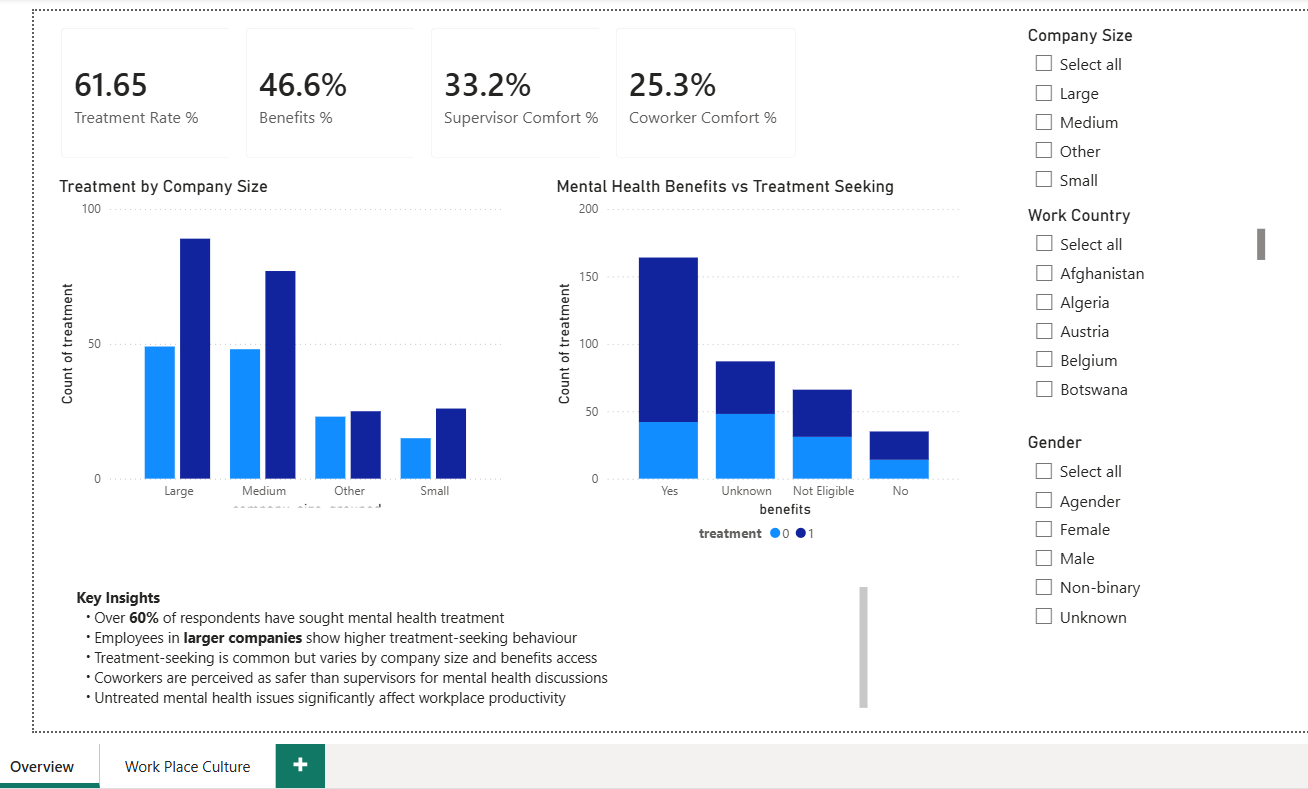

This screenshot's page, from the dashboard's own definition file:
{"tool":"powerbi","page":{"name":"Overview","canvas":[1280,720],"ordinal":0},"visuals":[{"type":"cardVisual","fields":{"Data":["data.Treatment Rate %"]},"box":[9.6,0,214.1,164.7],"z":0},{"type":"cardVisual","fields":{"Data":["data.Benefits %"]},"box":[194.4,0,215.4,164.7],"z":1000},{"type":"cardVisual","fields":{"Data":["data.Supervisor Comfort %"]},"box":[380.6,0,214.1,164.7],"z":2000},{"type":"cardVisual","fields":{"Data":["data.Coworker Comfort %"]},"box":[565.4,0,214.1,164.7],"z":3000},{"type":"clusteredColumnChart","title":"Treatment by Company Size","fields":{"Category":["data.company_size_grouped"],"Series":["data.treatment"],"Y":["CountNonNull(data.treatment)"]},"box":[20.6,164.7,454.2,376],"z":4000},{"type":"columnChart","title":"Mental Health Benefits vs Treatment Seeking","fields":{"Category":["data.benefits"],"Series":["data.treatment"],"Y":["CountNonNull(data.treatment)"]},"box":[517.3,164.7,415.8,376],"z":5000},{"type":"slicer","title":"Company Size","fields":{"Values":["data.company_size_grouped"]},"box":[988.6,14.3,247.1,180],"z":6000},{"type":"slicer","title":"Work Country","fields":{"Values":["data.work_country"]},"box":[988.6,194.3,247.1,208.6],"z":7000},{"type":"slicer","title":"Gender","fields":{"Values":["data.gender_clean"]},"box":[988.6,421.4,252.9,211.4],"z":8000},{"type":"textbox","box":[779,0,170,161],"z":9000},{"type":"textbox","box":[20.6,496.7,378.7,178.4],"z":10000},{"type":"textbox","box":[37,570.8,801.4,138.6],"z":11000}]}

Visuals, with their boxes on the page's 1280x720 design canvas (x1, y1, x2, y2). These are canvas units, not pixel positions in the 1308x789 screenshot, which may show the page scaled, cropped or inside an application window:
cardVisual - data.Treatment Rate %: box(10, 0, 224, 165)
cardVisual - data.Benefits %: box(194, 0, 410, 165)
cardVisual - data.Supervisor Comfort %: box(381, 0, 595, 165)
cardVisual - data.Coworker Comfort %: box(565, 0, 780, 165)
"Treatment by Company Size" clusteredColumnChart: box(21, 165, 475, 541)
"Mental Health Benefits vs Treatment Seeking" columnChart: box(517, 165, 933, 541)
"Company Size" slicer: box(989, 14, 1236, 194)
"Work Country" slicer: box(989, 194, 1236, 403)
"Gender" slicer: box(989, 421, 1242, 633)
textbox: box(779, 0, 949, 161)
textbox: box(21, 497, 399, 675)
textbox: box(37, 571, 838, 709)
